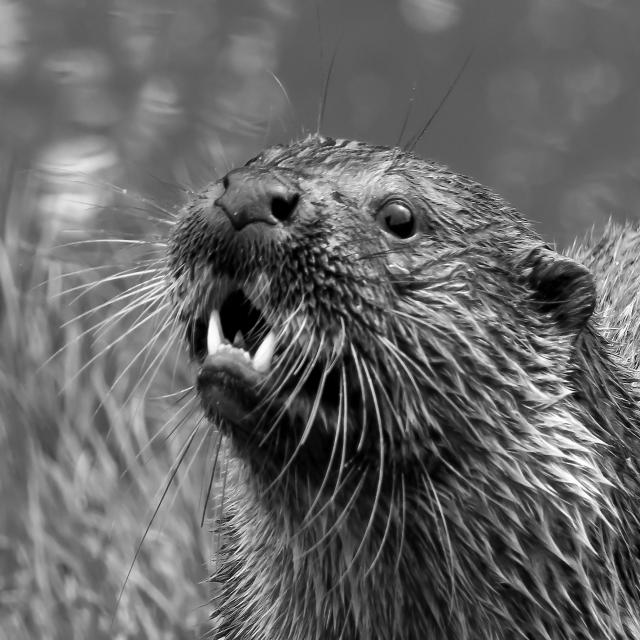otter: (167, 138, 638, 620)
